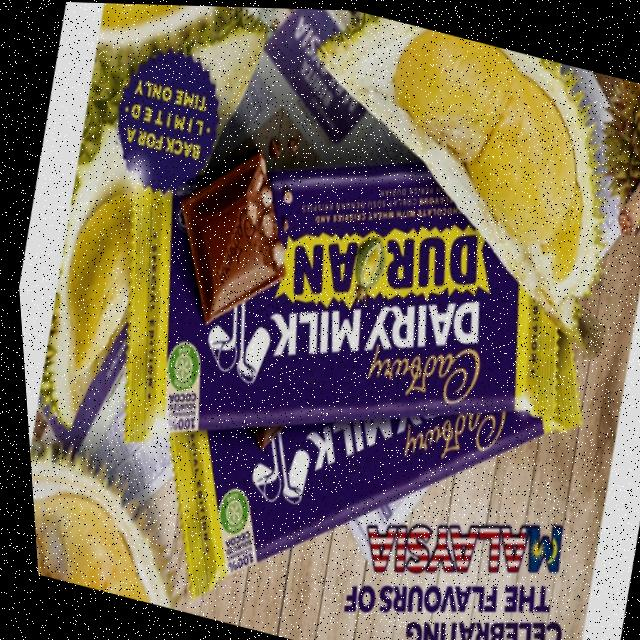cadbury: (55, 94, 603, 543)
